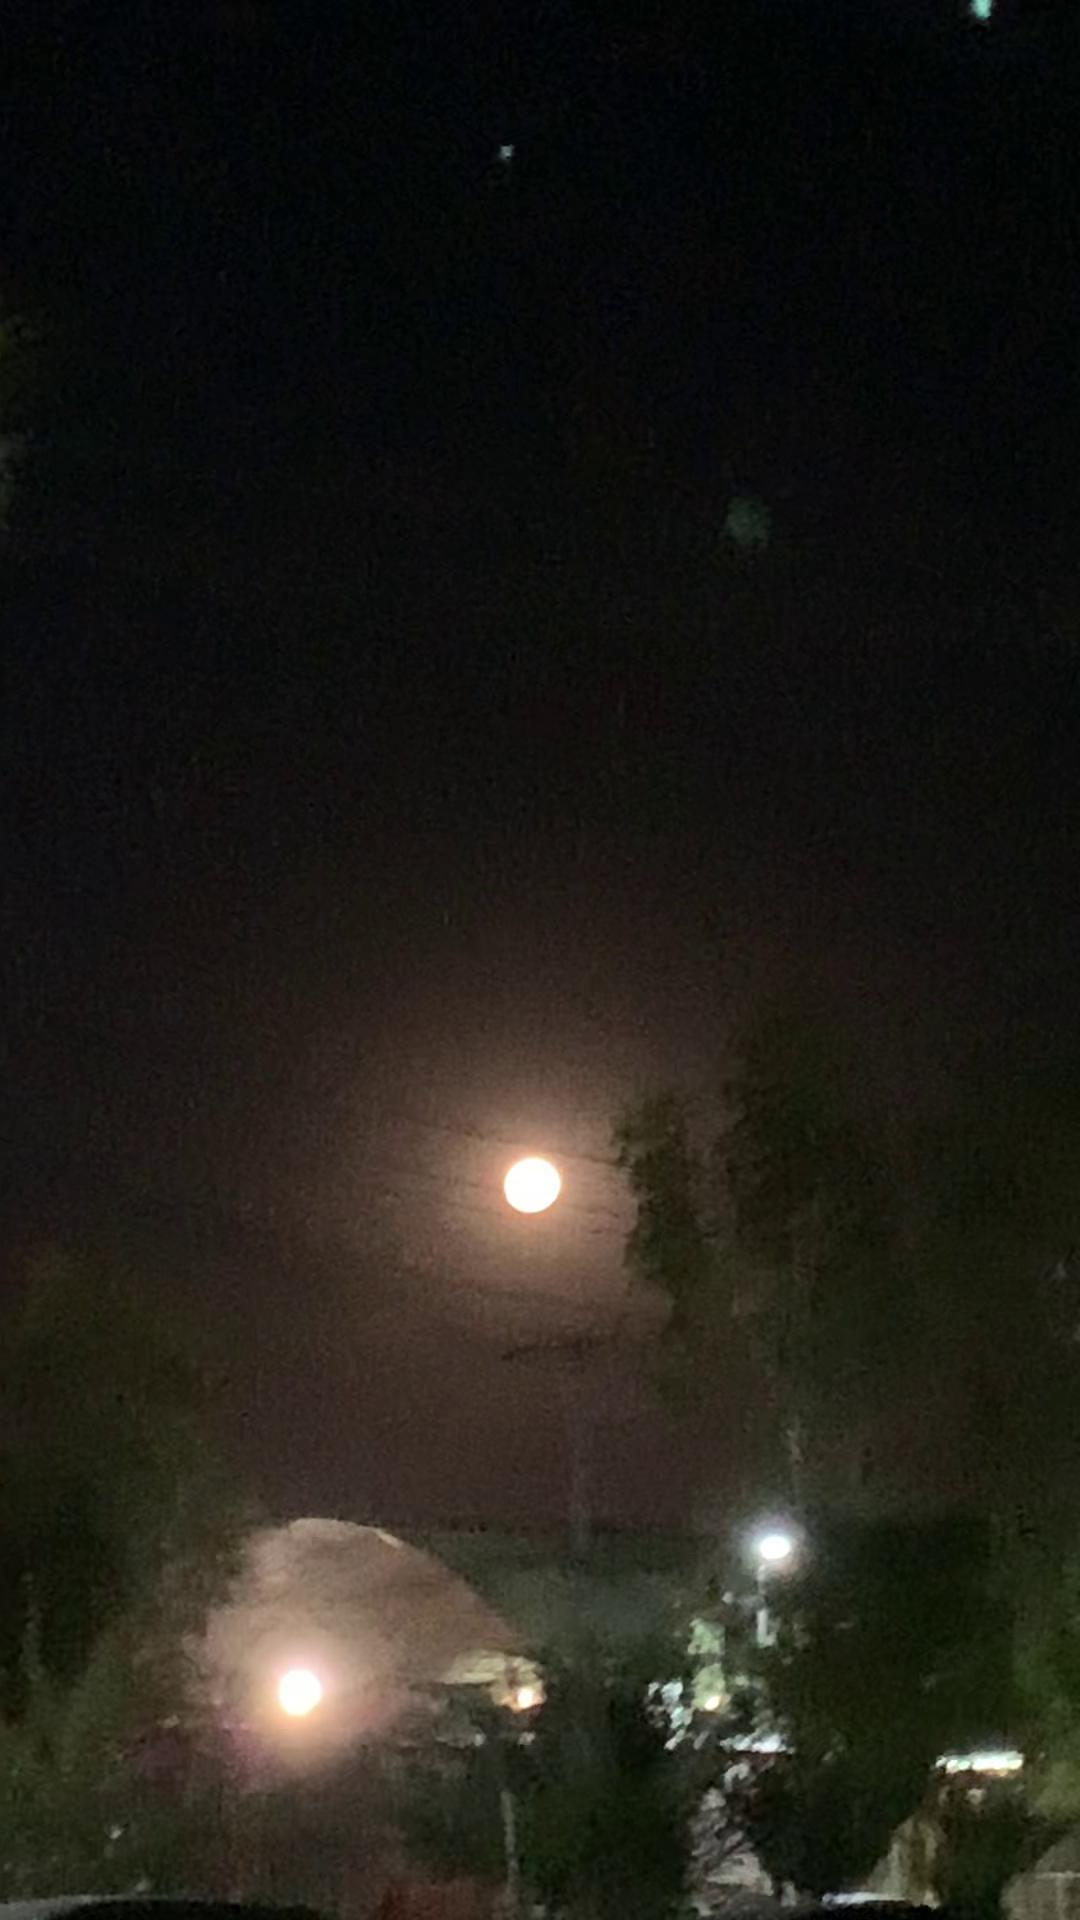moon: (488, 1159, 559, 1230)
